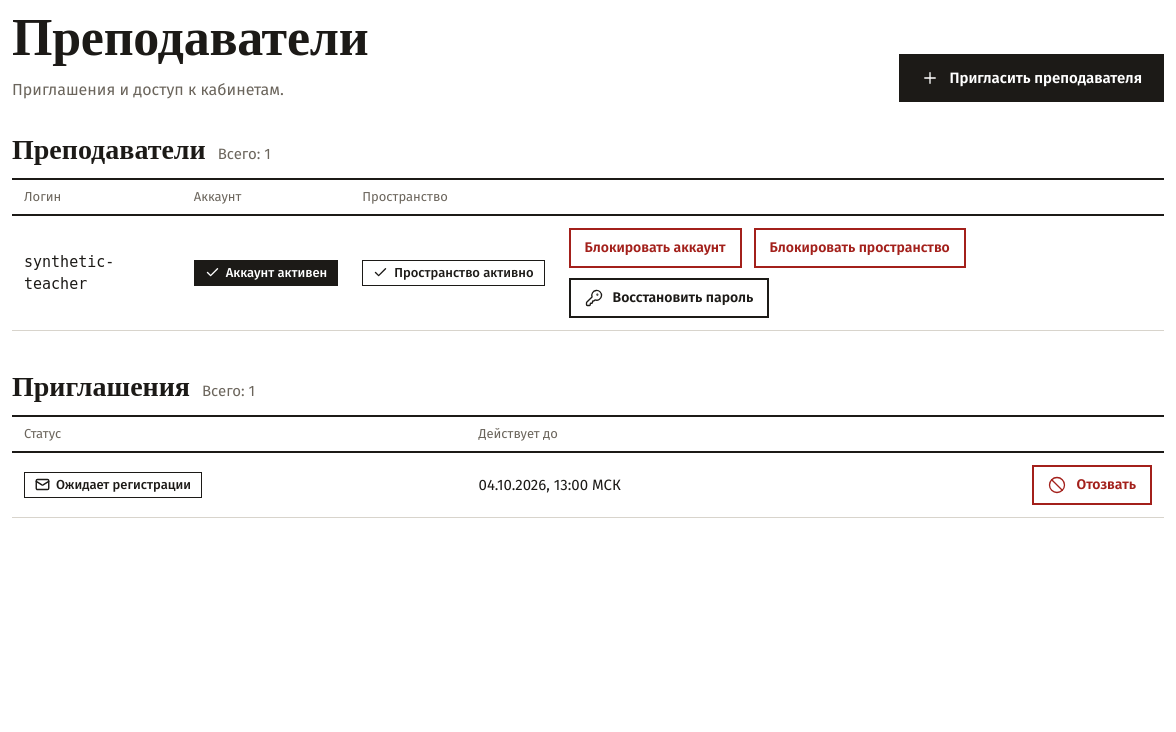
Administrator account controls › requires current password before issuing a teacher reset link
Click the button "Восстановить пароль" at (669, 298), box left=568, top=278, right=769, bottom=318
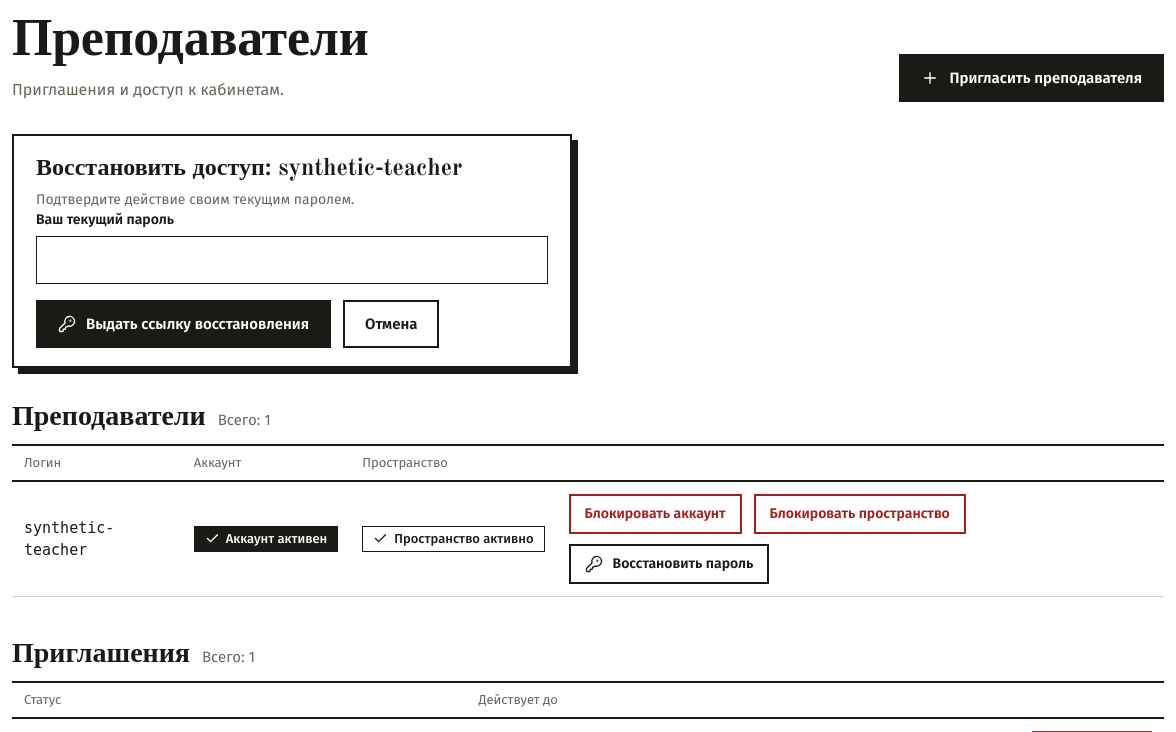
Submit the form, box left=36, top=210, right=548, bottom=348
Type "  synthetic current  " into the password field named "currentPassword" at (292, 260), box left=36, top=236, right=548, bottom=284
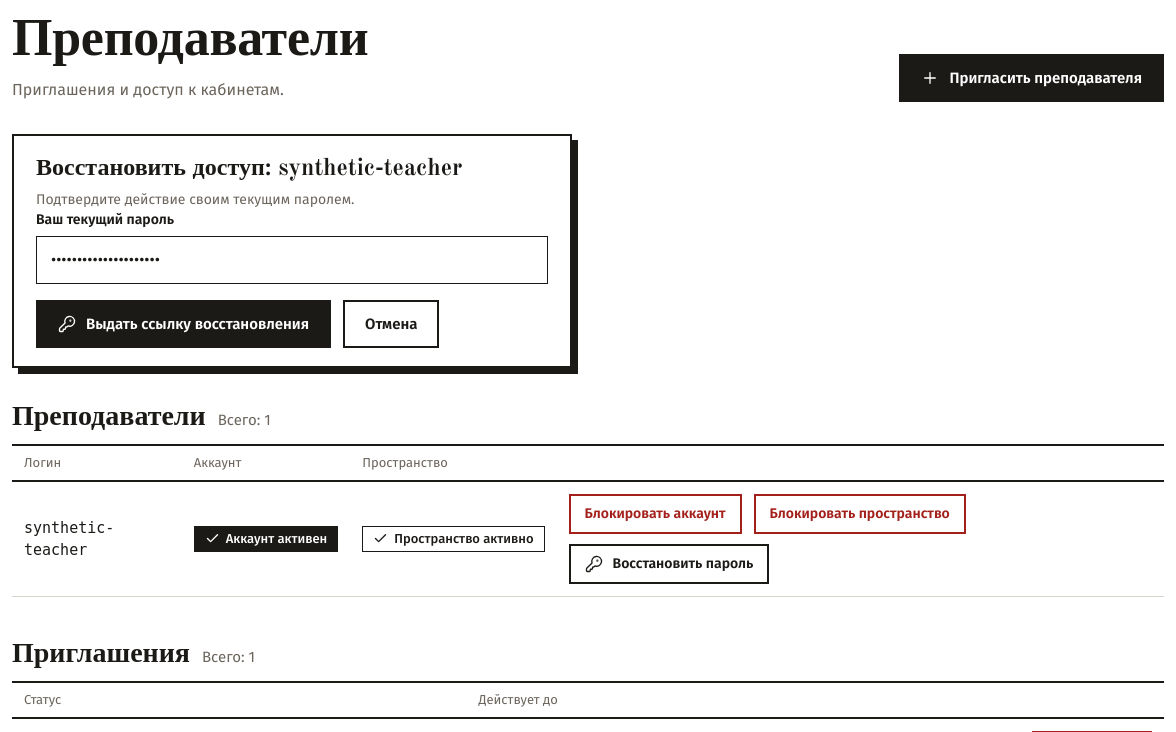
Submit the form, box left=36, top=210, right=548, bottom=348
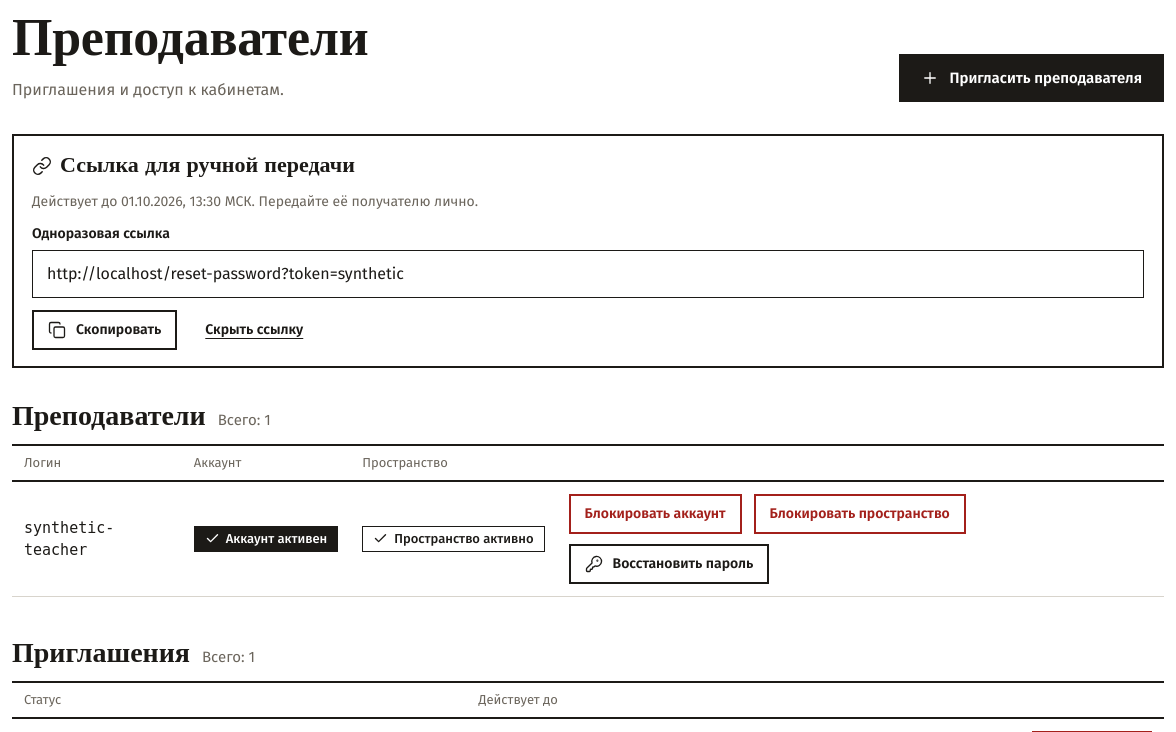
Now the password field named "currentPassword" is gone
